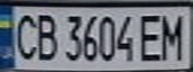0: (97, 12, 118, 63)
3: (60, 11, 84, 62)
4: (115, 11, 139, 63)
6: (78, 11, 100, 63)
B: (30, 10, 60, 62)
C: (9, 9, 39, 62)
E: (136, 11, 166, 63)
M: (154, 10, 190, 61)
